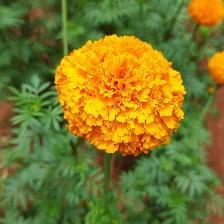marigold: (55, 34, 188, 160)
